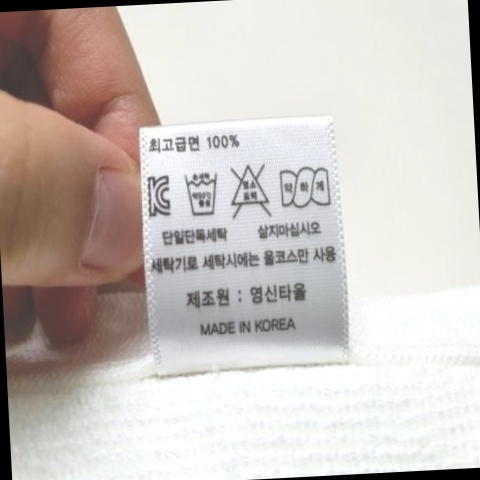hand_wash: (182, 170, 226, 221)
non_chlorine_bleach: (227, 158, 275, 221)
wring: (276, 165, 332, 211)
